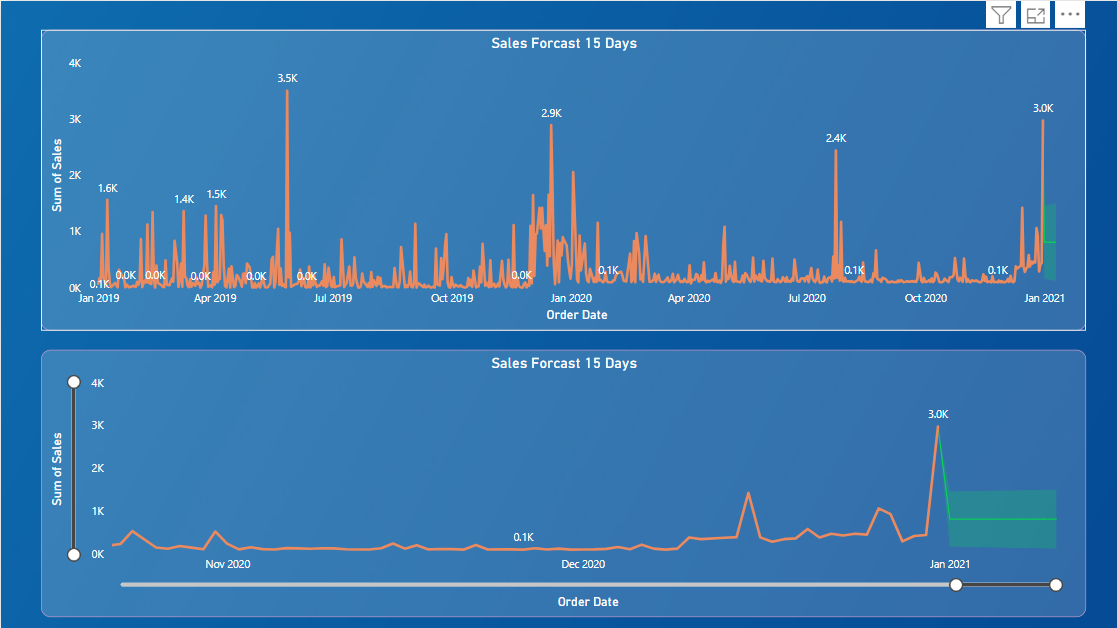

The dashboard page shown, as its layout file describes it:
{"tool":"powerbi","page":{"name":"Page 2","canvas":[1280,720],"ordinal":1},"visuals":[{"type":"lineChart","title":"Sales Forcast 15 Days","fields":{"Y":["Sum(SuperStore_Sales_Dataset.Sales)"],"Category":["SuperStore_Sales_Dataset.Order Date"]},"box":[45.7,32.9,1194.3,344.3],"z":0},{"type":"lineChart","title":"Sales Forcast 15 Days","fields":{"Y":["Sum(SuperStore_Sales_Dataset.Sales)"],"Category":["SuperStore_Sales_Dataset.Order Date"]},"box":[45.7,398.6,1194.3,305.7],"z":1000}]}

Visuals, with their boxes in screenshot pixels (x1, y1, x2, y2), scaled from the page's 1280x720 canvas onto the 1117x628 screenshot:
"Sales Forcast 15 Days" lineChart: [x1=40, y1=29, x2=1082, y2=329]
"Sales Forcast 15 Days" lineChart: [x1=40, y1=348, x2=1082, y2=614]
